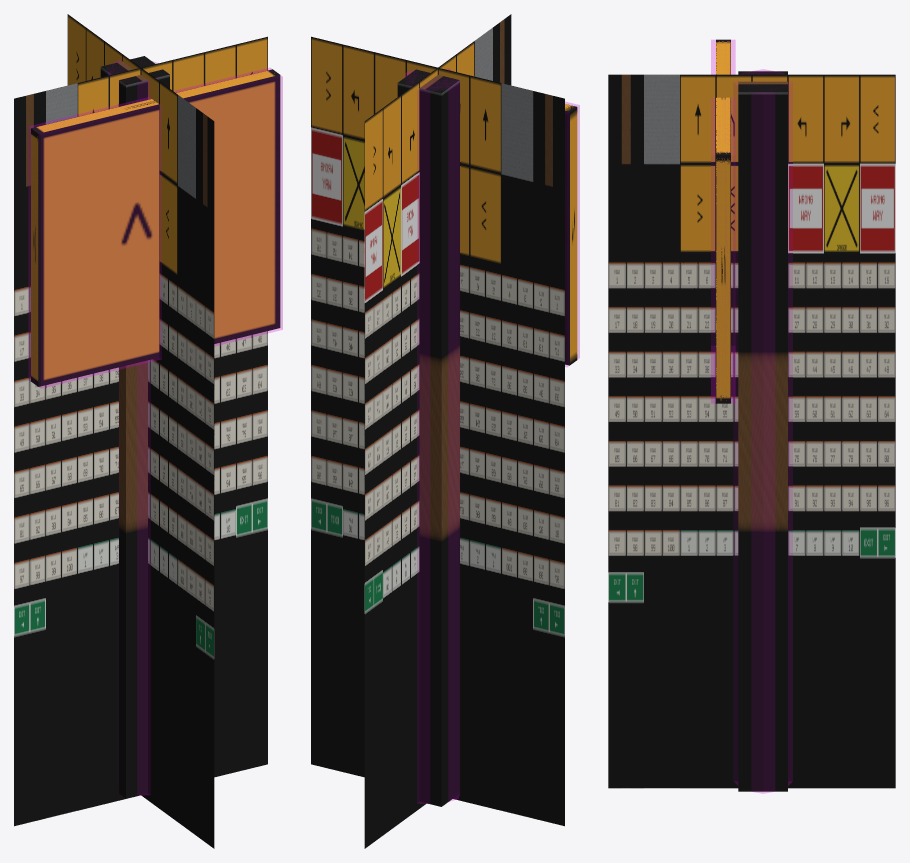
File: arrow_double_right.dae
3 renders of one model, left to right at view 1: azimuth 30°, elevation 25°; view 2: azimuth 150°, elevation 25°; view 3: azimuth 270°, elevation 25°, orthographic.
Visible parts, largest first — view 1: arrow_double_right_a50, arrow_double_right_a800, Colmesh_sign-1, Colmesh_post-1, arrow_double_right_a200; view 2: arrow_double_right_a50, arrow_double_right_a800, Colmesh_post-1, arrow_double_right_a200, Colmesh_sign-1; view 3: arrow_double_right_a50, arrow_double_right_a800, Colmesh_post-1, Colmesh_sign-1.
Boxes of the visible parts, x1,y1,x2,y2 form: arrow_double_right_a50: (14, 14, 267, 848); arrow_double_right_a800: (31, 56, 280, 798); Colmesh_sign-1: (28, 68, 282, 388); Colmesh_post-1: (108, 60, 157, 795); arrow_double_right_a200: (119, 61, 169, 796); arrow_double_right_a50: (311, 14, 564, 848); arrow_double_right_a800: (397, 69, 577, 806); Colmesh_post-1: (405, 68, 459, 803); arrow_double_right_a200: (413, 71, 459, 805); Colmesh_sign-1: (565, 102, 579, 366); arrow_double_right_a50: (608, 74, 895, 788); arrow_double_right_a800: (716, 39, 787, 791); Colmesh_post-1: (734, 69, 792, 793); Colmesh_sign-1: (711, 40, 735, 403).
Bounding box in the file's own units: 0.5775 × 0.5775 × 1.58.
2 materials, 1 textured.
